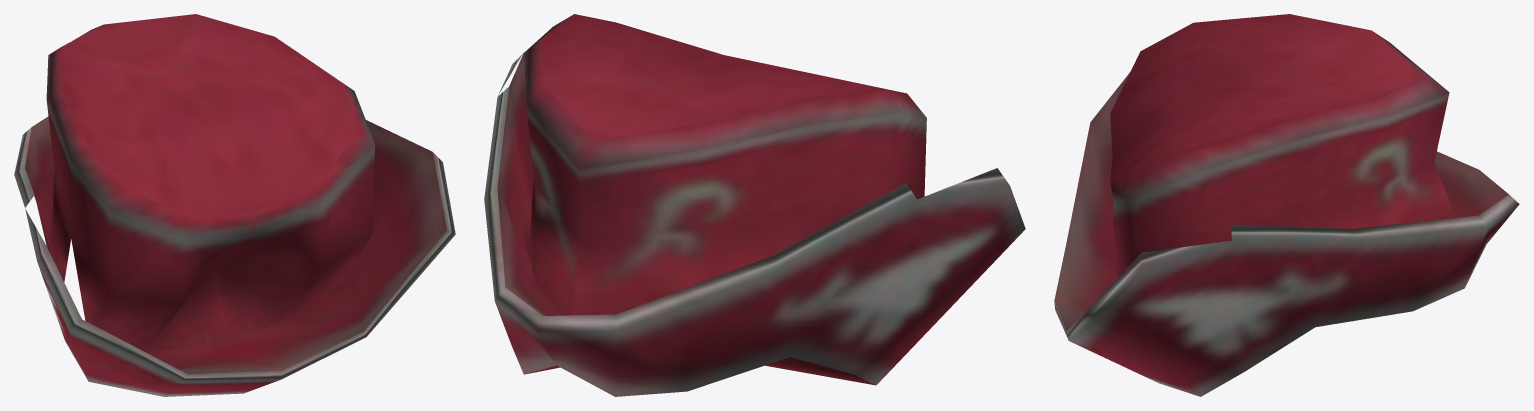
The model's file is pvpHelmetR.glb.
3 views of the same model, side by side, from view 1: azimuth 30°, elevation 25°; view 2: azimuth 150°, elevation 25°; view 3: azimuth 270°, elevation 25° (orthographic). The views are drawn at different scales.
Parts seen in each view (by area): view 1: pvpHelmetR; view 2: pvpHelmetR; view 3: pvpHelmetR.
Part boxes in pixels (x1,y1,x2,y2): pvpHelmetR: [14, 14, 455, 396]; pvpHelmetR: [484, 14, 1025, 396]; pvpHelmetR: [1054, 14, 1519, 396].
Size of the model in its own units: 0.4302 by 0.2827 by 0.4122.
1 material, 1 textured.
